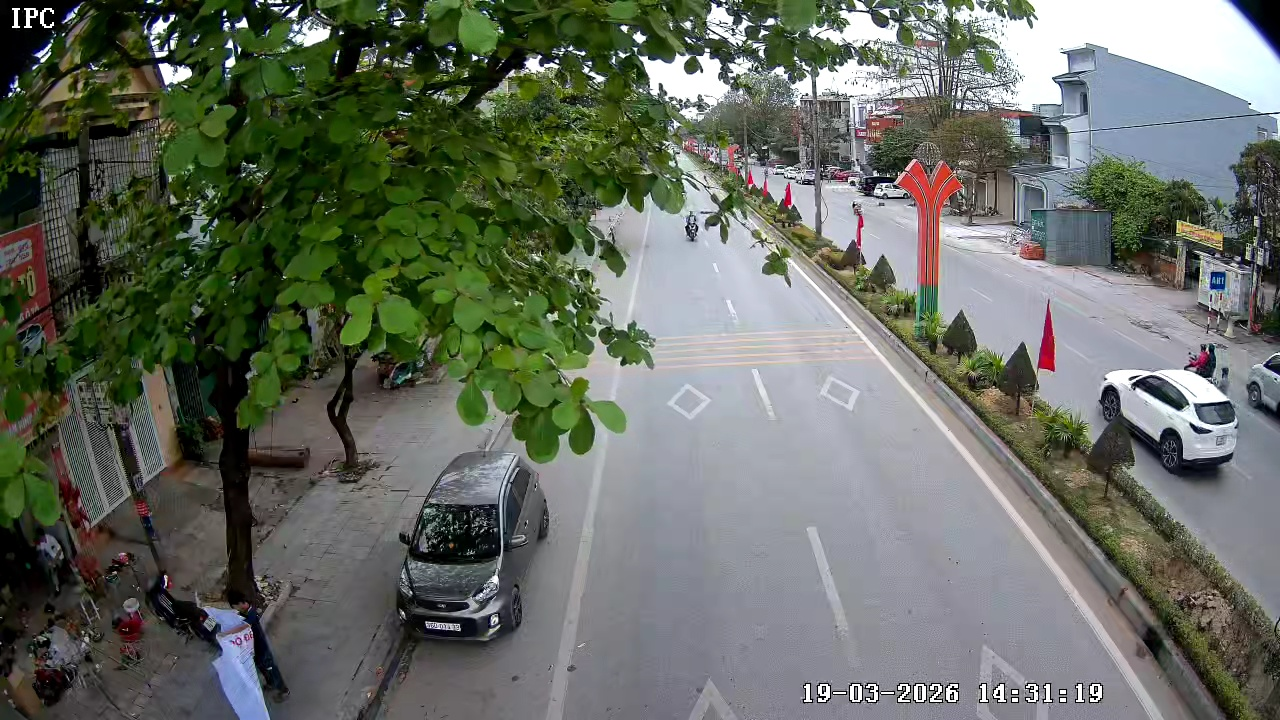car: (395, 446, 553, 643), (1100, 367, 1239, 474), (1245, 344, 1279, 433)
motorbike: (1183, 340, 1233, 393), (682, 209, 700, 242)
